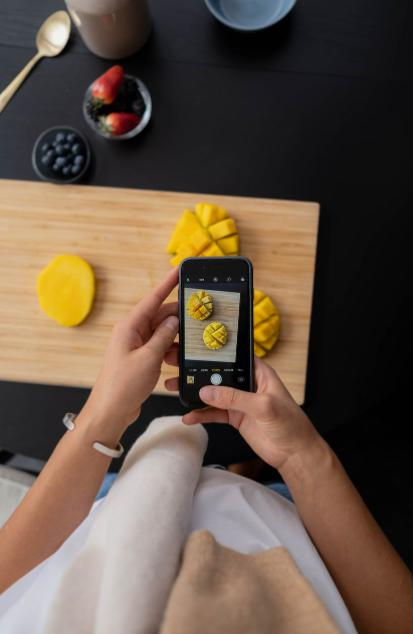mobile: (180, 257, 254, 408)
